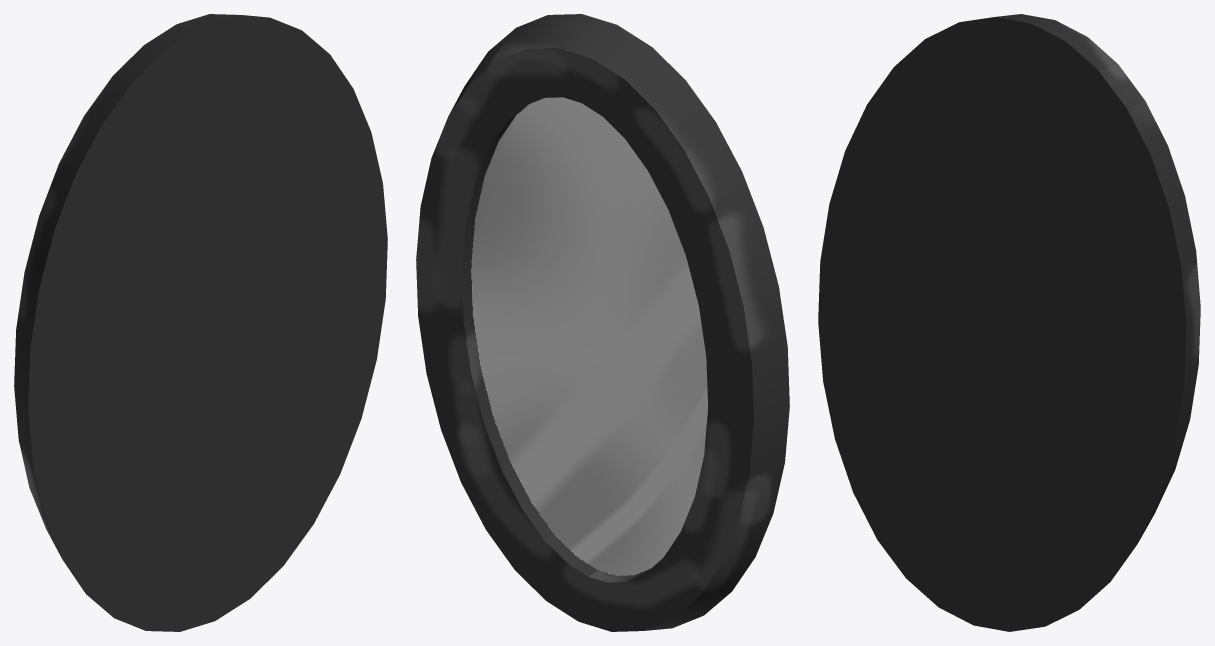
The model's file is obj_OvalMirror.fbx.
3 views of the same model, side by side, from view 1: azimuth 30°, elevation 25°; view 2: azimuth 150°, elevation 25°; view 3: azimuth 330°, elevation 25° (orthographic). The views are drawn at different scales.
Visible parts, largest first — view 1: obj_OvalMirror; view 2: obj_OvalMirror; view 3: obj_OvalMirror.
Boxes of the visible parts, x1,y1,x2,y2 form: obj_OvalMirror: (14,14,387,631); obj_OvalMirror: (416,14,789,631); obj_OvalMirror: (818,14,1200,631).
Size of the model in its own units: 0.2529 by 0.4044 by 0.0304.
